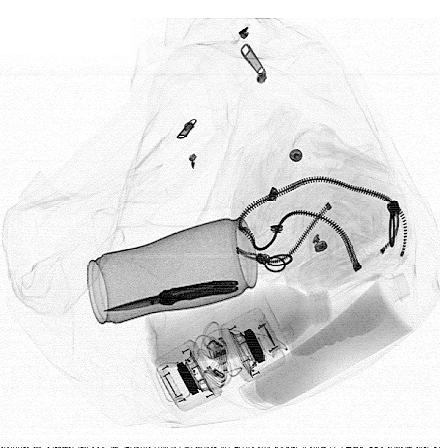Knife: (101, 278, 240, 314)
